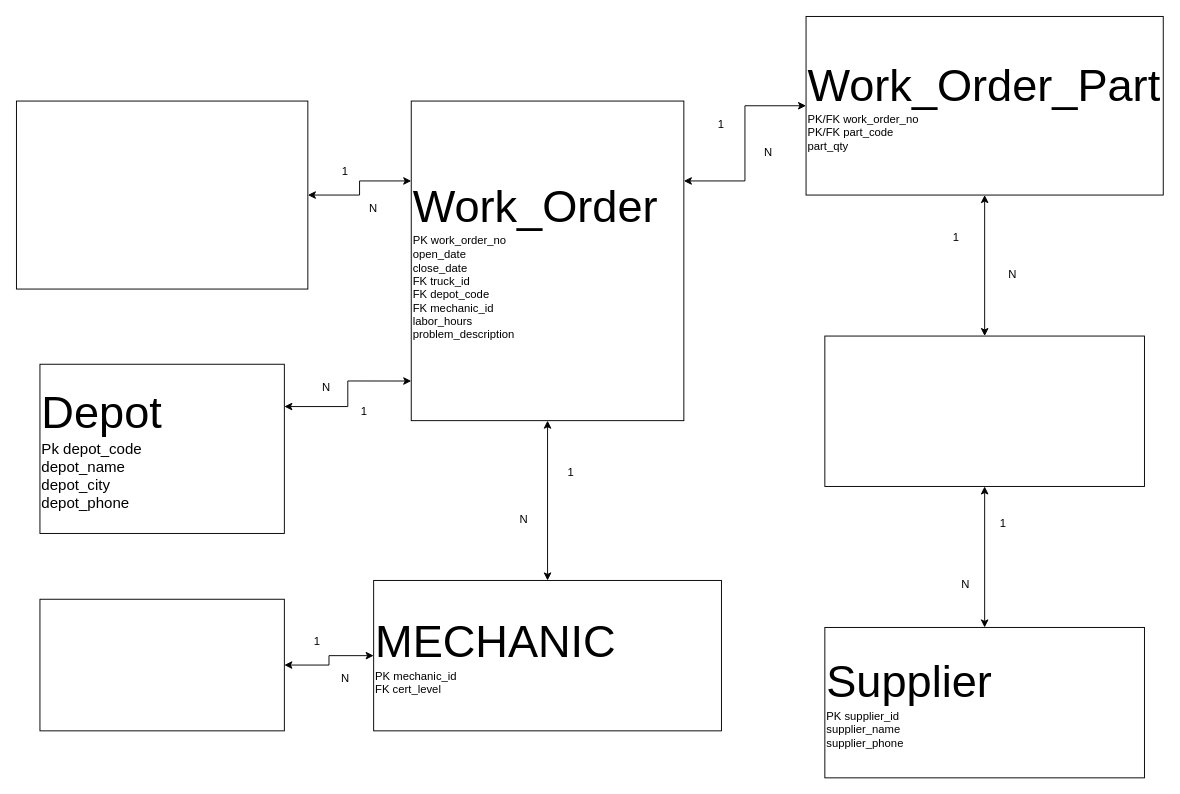
Some shapes in this 1180 by 794 pixel diagram are drawn without their labels. Each missing label, with the centre of its shape:
"Certification Pk cert_level cart_hourly_rate" goes at (161,664).
"PART Pk part_code part_unit_cost FK Supplier_id" goes at (984,410).
"TRUCK Pk truck_id truck_vin truck_make truck_model truck_year" goes at (162,194).
